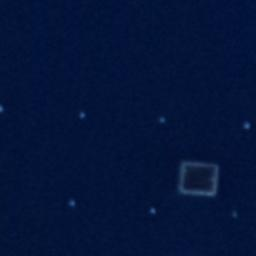square_solid: (175, 156, 223, 201)
